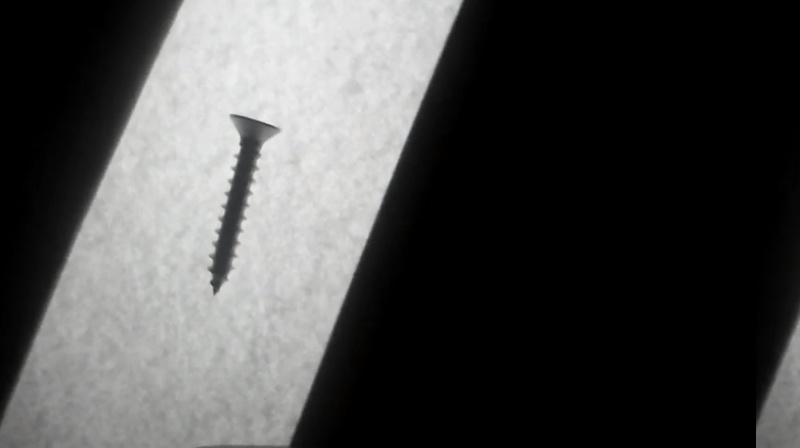S001: (202, 108, 285, 300)
